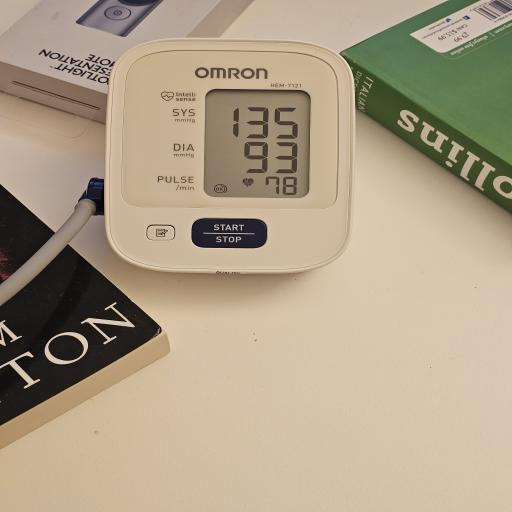blood pressure monitor: (104, 37, 357, 275)
